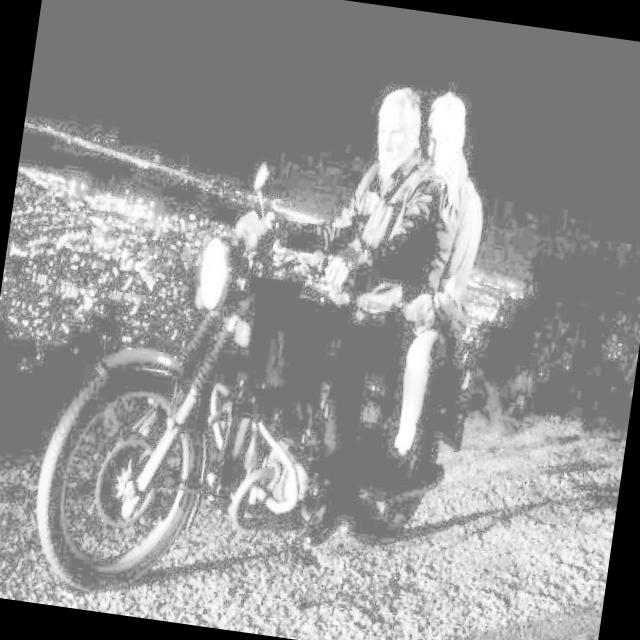Motorcycle: (7, 147, 526, 640)
